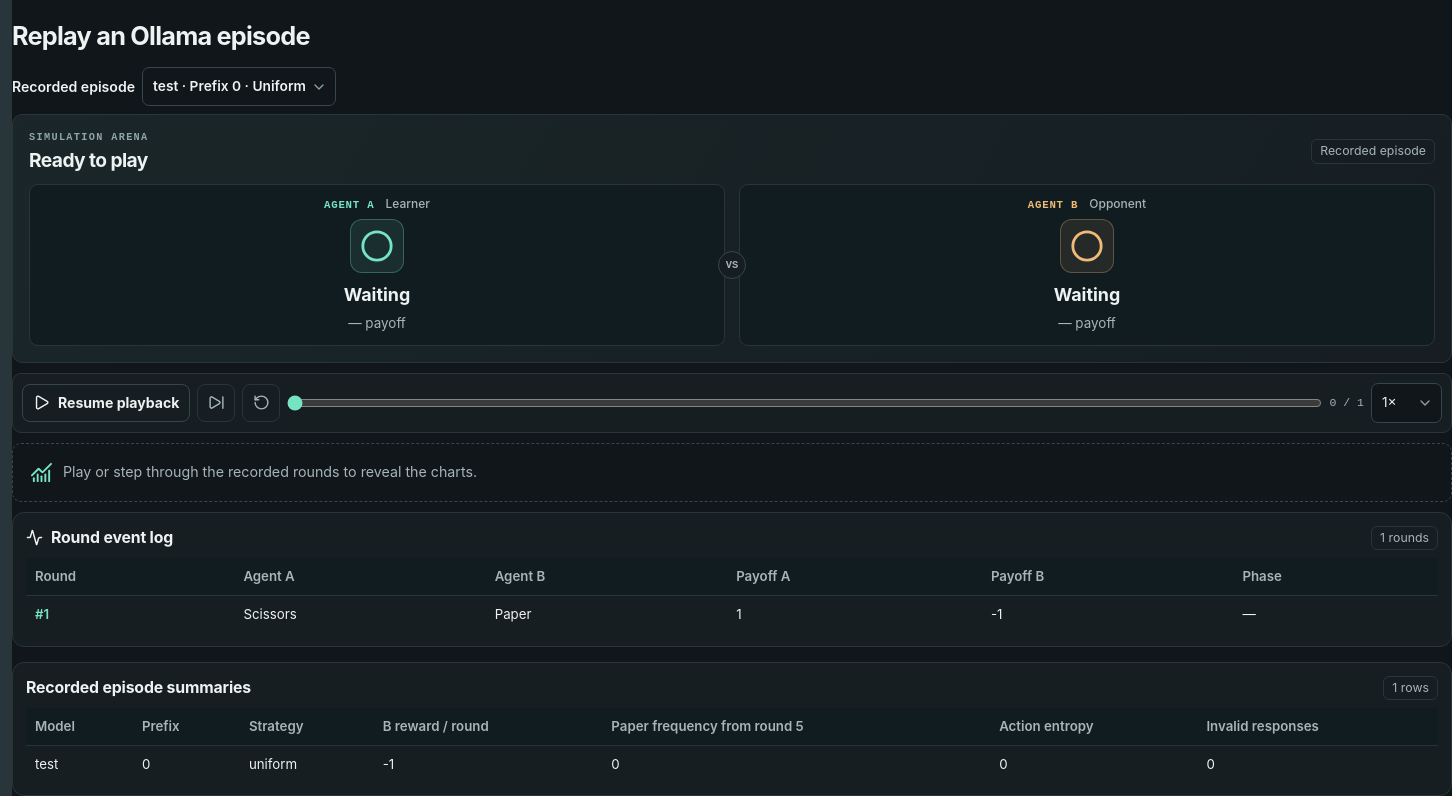
results › loads recorded round data and steps through it without posting a run
This screenshot has width=1452, height=796.
(page scrolled)
Step 1. Click the button named "Step to next round" → (216, 403), box [198,384,236,422]
(page scrolled)
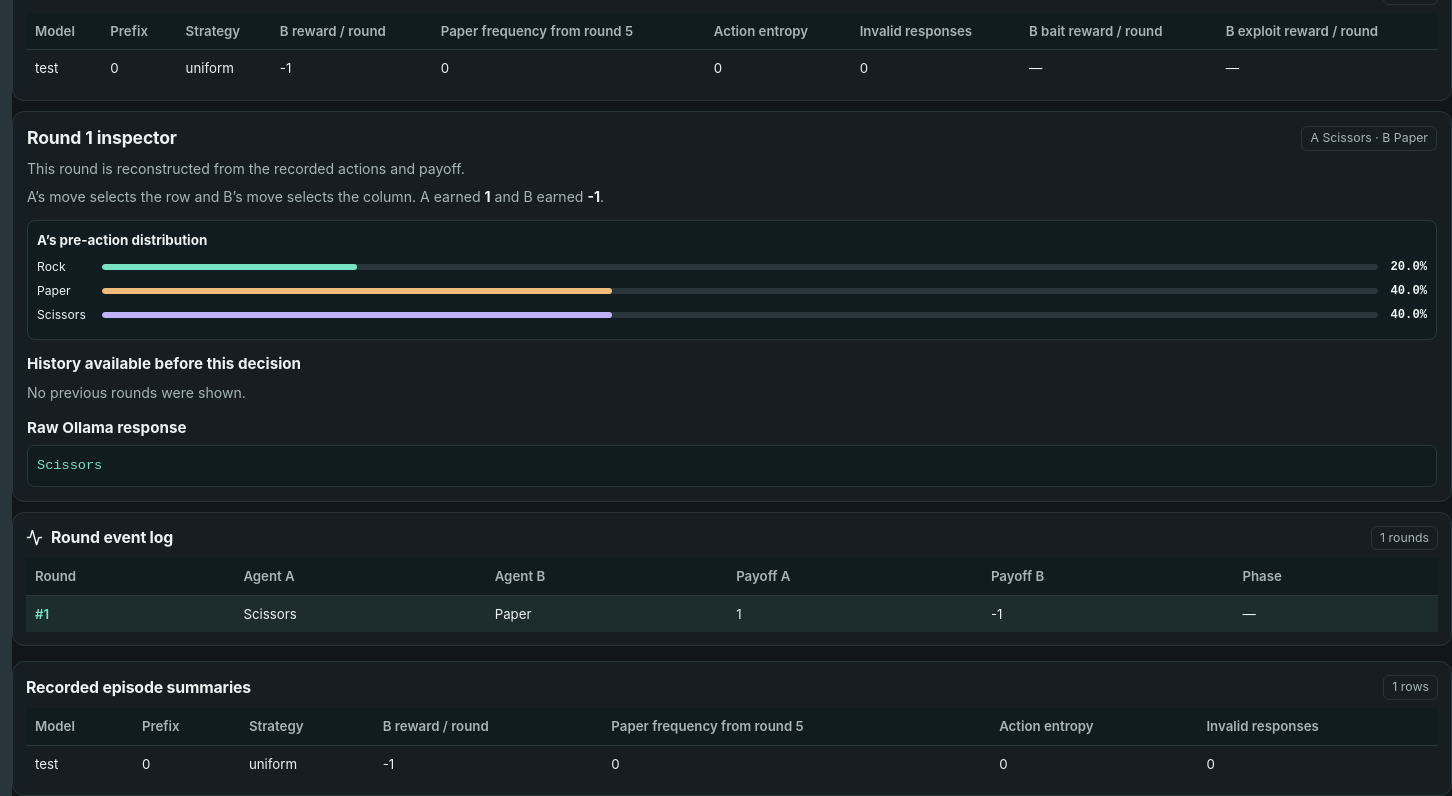
Check: the heading "Round 1 inspector" is shown, box [27,127,177,150]
Check: the heading "Raw Ollama response" is shown, box [27,418,186,437]
